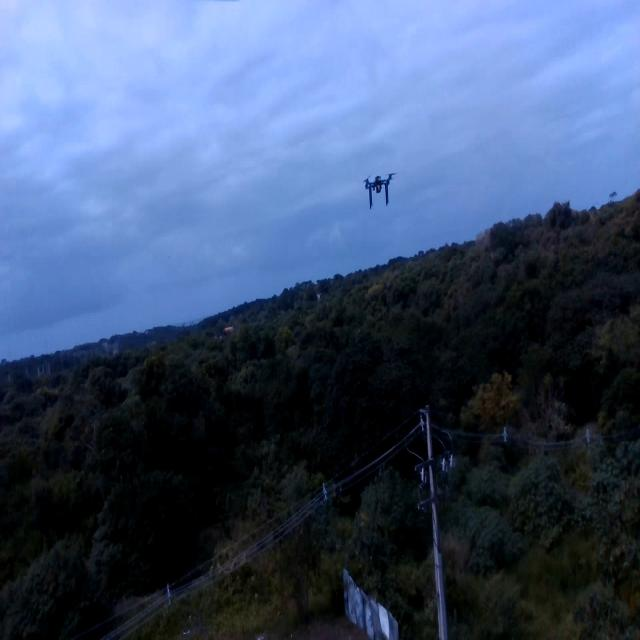-uav-: (354, 160, 404, 225)
